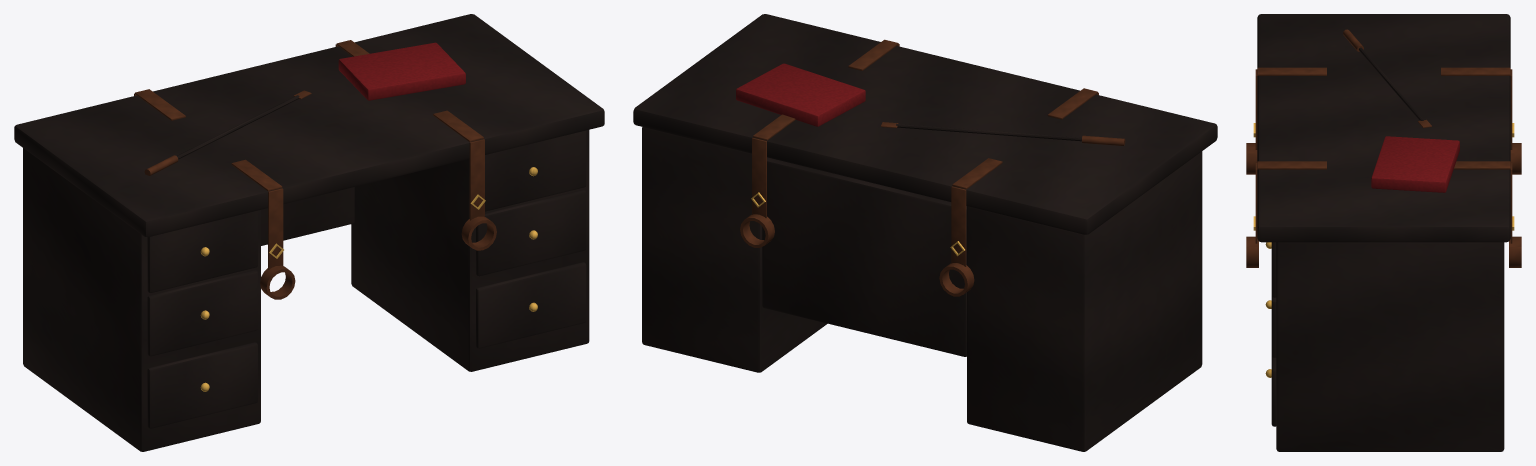
Rendered from Furn_Adult_DetentionDesk.fbx.
3 views of the same model, side by side, from view 1: azimuth 30°, elevation 25°; view 2: azimuth 150°, elevation 25°; view 3: azimuth 270°, elevation 25° (orthographic). The views are drawn at different scales.
Parts seen in each view (by area): view 1: Adult_DetentionDesk; view 2: Adult_DetentionDesk; view 3: Adult_DetentionDesk.
Part boxes in pixels (x1,y1,x2,y2): Adult_DetentionDesk: (14,14,604,451); Adult_DetentionDesk: (633,14,1217,451); Adult_DetentionDesk: (1246,14,1521,451).
Size of the model in its own units: 1.6 by 0.84 by 0.87.
4 materials, 4 textured.
